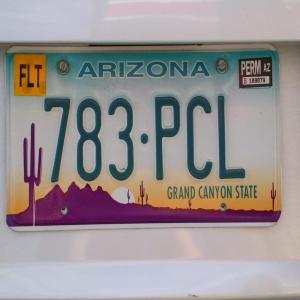Vehicle-registration-plate: (6, 43, 285, 233)
